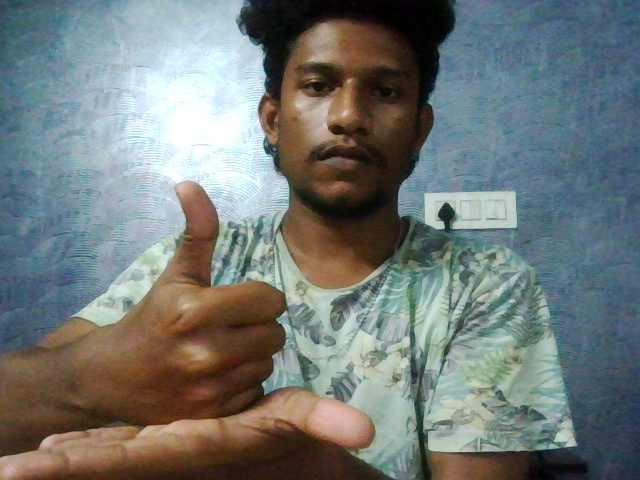help: (20, 176, 381, 474)
